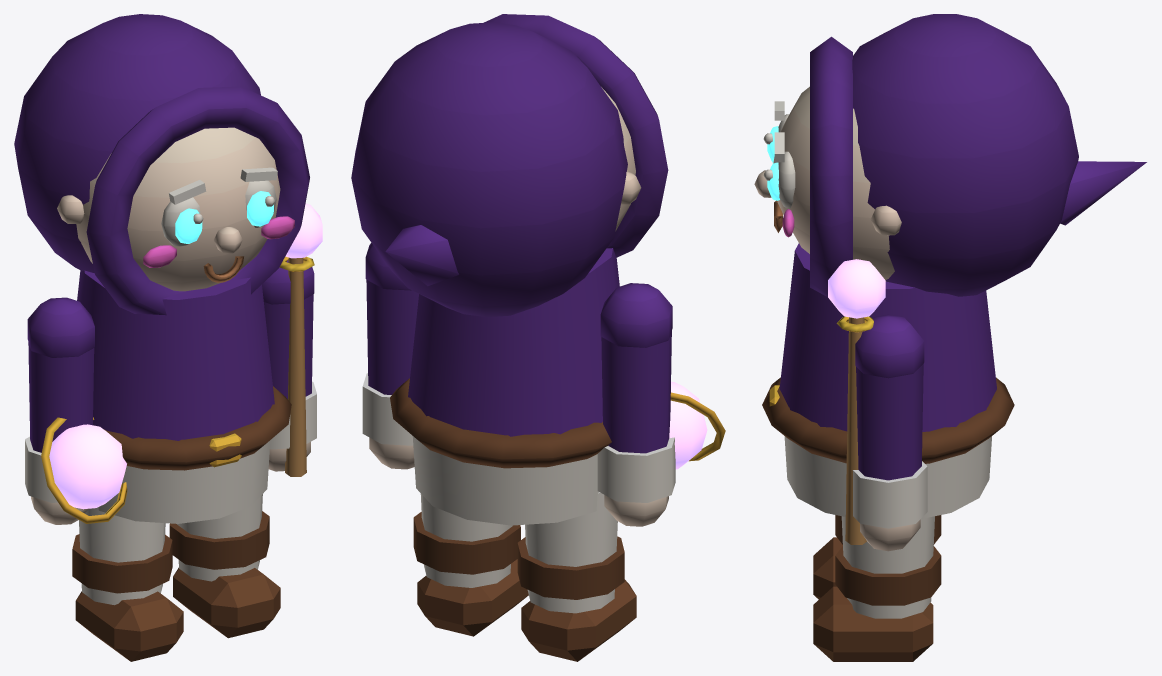
Rendered from hero_opaline.glb.
3 views of the same model, side by side, from view 1: azimuth 30°, elevation 25°; view 2: azimuth 150°, elevation 25°; view 3: azimuth 270°, elevation 25° (orthographic). The views are drawn at different scales.
Parts seen in each view (by area): view 1: body_t0_palette, legl_t0_palette, arml_t0_palette, legr_t0_palette, armr_t0_palette, arml_t0_crystal_violet, body_t0_crystal, armr_t0_crystal_violet; view 2: body_t0_palette, arml_t0_palette, legl_t0_palette, legr_t0_palette, armr_t0_palette, arml_t0_crystal_violet; view 3: body_t0_palette, armr_t0_palette, legr_t0_palette, armr_t0_crystal_violet, legl_t0_palette.
Boxes of the visible parts, x1,y1,x2,y2 form: body_t0_palette: [14, 14, 309, 523]; legl_t0_palette: [72, 507, 183, 661]; arml_t0_palette: [25, 297, 127, 524]; legr_t0_palette: [169, 494, 280, 638]; armr_t0_palette: [262, 256, 316, 476]; arml_t0_crystal_violet: [49, 424, 126, 509]; body_t0_crystal: [175, 191, 273, 243]; armr_t0_crystal_violet: [285, 203, 322, 258]; body_t0_palette: [351, 14, 668, 525]; arml_t0_palette: [597, 283, 725, 526]; legl_t0_palette: [517, 492, 636, 661]; legr_t0_palette: [413, 493, 528, 636]; armr_t0_palette: [362, 243, 418, 469]; arml_t0_crystal_violet: [669, 381, 707, 469]; body_t0_palette: [754, 14, 1146, 518]; armr_t0_palette: [836, 314, 927, 551]; legr_t0_palette: [813, 516, 941, 661]; armr_t0_crystal_violet: [828, 259, 885, 318]; legl_t0_palette: [813, 515, 941, 599].
Size of the model in its own units: 0.285 by 0.5265 by 0.3112.
